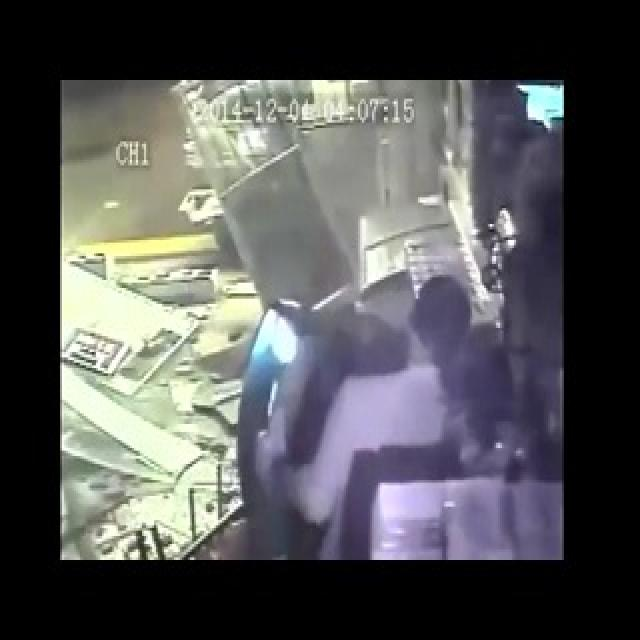thief: (222, 277, 518, 478)
